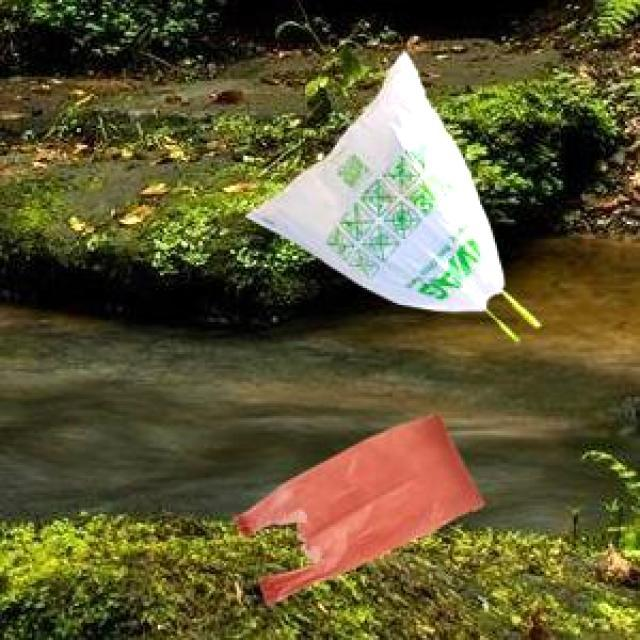Plastic_Bag: (244, 50, 537, 323), (232, 410, 482, 600)
